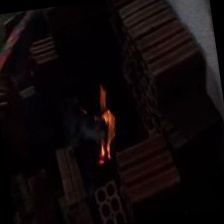fire: (82, 81, 132, 172)
